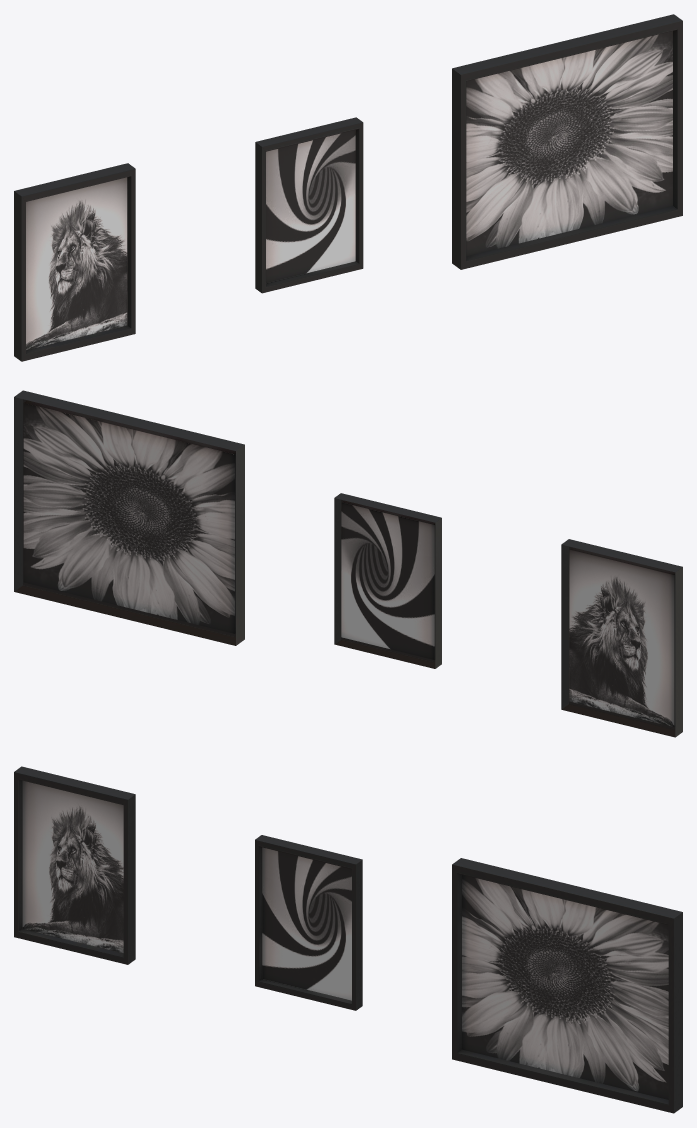
Rendered from Black Mountains Landscape.FBX.
The picture shows the model from 3 angles, top to bottom: view 1: azimuth 30°, elevation 25°; view 2: azimuth 150°, elevation 25°; view 3: azimuth 330°, elevation 25°; orthographic projection.
Parts seen in each view (by area): view 1: Black Mountains Landscape; view 2: Black Mountains Landscape; view 3: Black Mountains Landscape.
Boxes of the visible parts, box(x1,y1,x2,y2) form: Black Mountains Landscape: box(14, 14, 682, 361); Black Mountains Landscape: box(14, 390, 682, 737); Black Mountains Landscape: box(14, 766, 682, 1113).
Bounding box in the file's own units: 1.91 × 0.5391 × 0.0452.
Materials: 1 (1 with a texture image).
